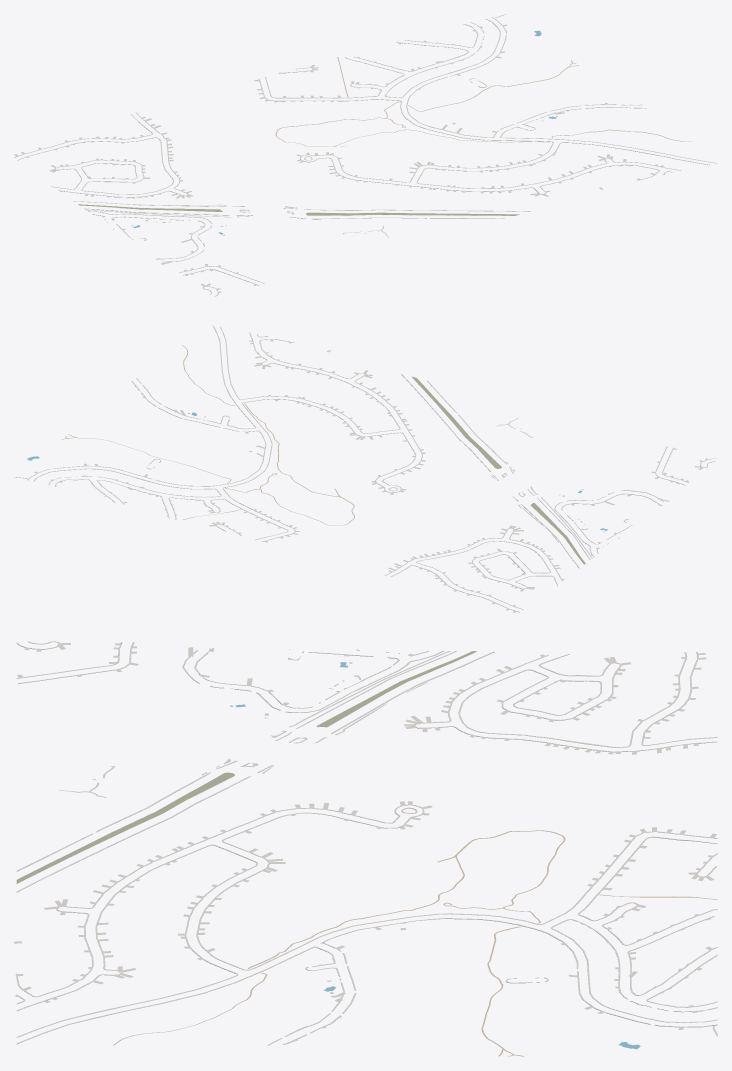
Rendered from ground_r6_c7.glb.
3 renders of one model, top to bottom at view 1: azimuth 30°, elevation 25°; view 2: azimuth 150°, elevation 25°; view 3: azimuth 270°, elevation 25°, orthographic. The views are drawn at different scales.
Parts seen in each view (by area): view 1: sidewalks, driveways, paths, medians; view 2: sidewalks, driveways, paths, medians; view 3: sidewalks, driveways, paths, medians.
Part boxes in pixels (<box>): sidewalks: <box>14,14,717,296</box>; driveways: <box>14,24,664,292</box>; paths: <box>86,57,691,237</box>; medians: <box>78,204,519,215</box>; sidewalks: <box>15,325,716,612</box>; driveways: <box>34,336,708,612</box>; paths: <box>61,345,592,558</box>; medians: <box>411,376,585,564</box>; sidewalks: <box>16,641,717,1045</box>; driveways: <box>14,643,716,1041</box>; paths: <box>58,651,717,1056</box>; medians: <box>16,651,476,883</box>.
Bounding box in the file's own units: 1131 × 45.36 × 791.
